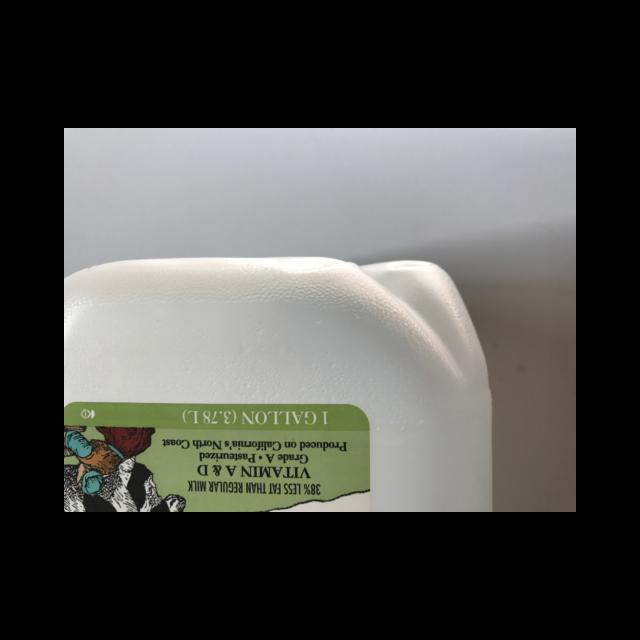plastic: (64, 254, 492, 511)
